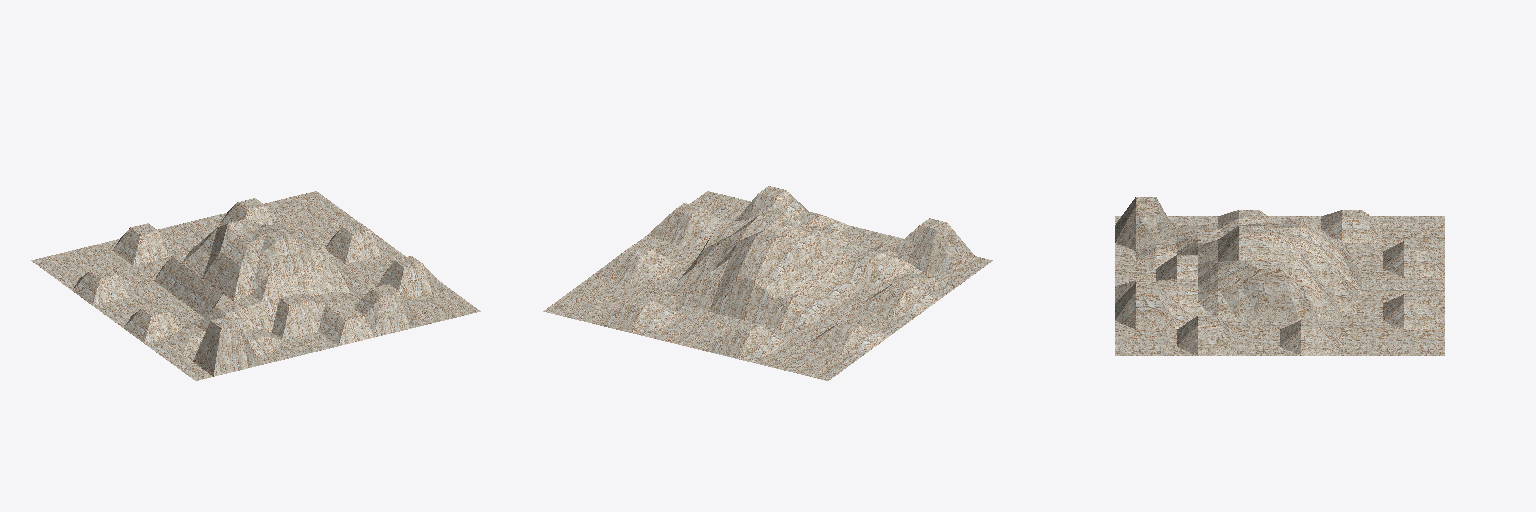
3 views of the same model, side by side, from view 1: azimuth 30°, elevation 25°; view 2: azimuth 150°, elevation 25°; view 3: azimuth 270°, elevation 25° (orthographic).
Visible parts, largest first — view 1: Plane; view 2: Plane; view 3: Plane.
Part boxes in pixels (x1,y1,x2,y2): Plane: (31, 191, 480, 380); Plane: (543, 186, 992, 380); Plane: (1115, 197, 1444, 355).
Size of the model in its own units: 40 by 8.04 by 40.
1 materials, 1 textured.